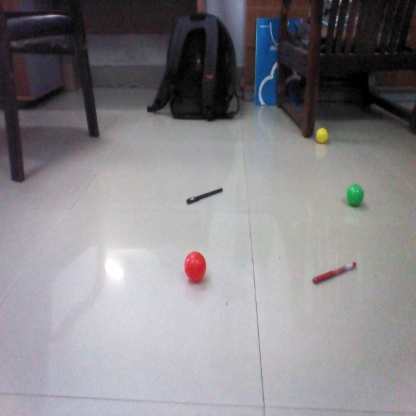ball: (182, 251, 208, 285), (346, 183, 365, 203), (316, 127, 330, 145)
pen: (313, 260, 358, 282), (186, 186, 228, 203)
